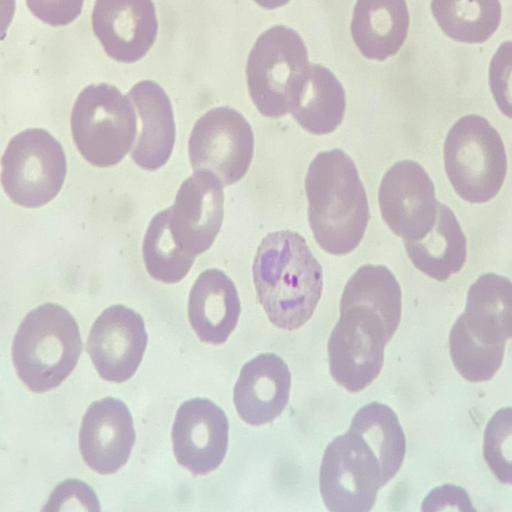Infected: (254, 228, 322, 331)
Uninfected: (305, 148, 368, 252), (11, 304, 81, 392), (247, 25, 309, 119), (71, 83, 137, 165), (442, 114, 504, 201), (0, 128, 66, 205), (187, 108, 253, 183), (329, 311, 390, 392), (347, 403, 405, 484), (404, 205, 465, 282), (339, 265, 400, 342), (170, 172, 226, 255), (87, 305, 147, 381), (319, 438, 383, 509), (170, 398, 229, 474), (378, 161, 436, 238), (127, 81, 176, 168), (79, 398, 135, 473), (233, 353, 291, 424), (187, 269, 240, 344), (92, 0, 156, 60), (143, 214, 196, 284), (291, 66, 345, 134), (448, 315, 501, 382), (350, 0, 409, 58), (465, 274, 511, 340)
